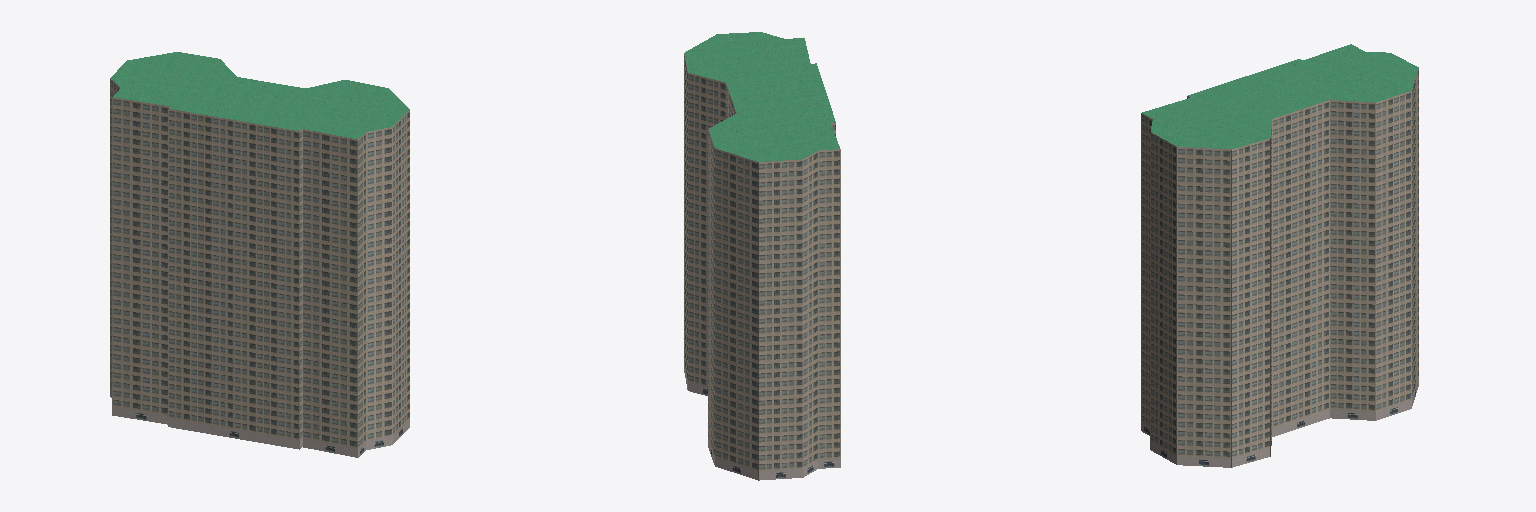
The picture shows the model from 3 angles: view 1: azimuth 30°, elevation 25°; view 2: azimuth 150°, elevation 25°; view 3: azimuth 270°, elevation 25°; orthographic projection.
Parts seen in each view (by area): view 1: BuildingMaster_[number redacted]_0, BuildingMaster_[number redacted]_1; view 2: BuildingMaster_[number redacted]_0, BuildingMaster_[number redacted]_1; view 3: BuildingMaster_[number redacted]_0, BuildingMaster_[number redacted]_1.
Part boxes in pixels (bbox=[...]): BuildingMaster_[number redacted]_0: bbox=[110, 79, 409, 457]; BuildingMaster_[number redacted]_1: bbox=[110, 52, 409, 139]; BuildingMaster_[number redacted]_0: bbox=[684, 54, 840, 480]; BuildingMaster_[number redacted]_1: bbox=[684, 32, 839, 161]; BuildingMaster_[number redacted]_0: bbox=[1141, 69, 1418, 467]; BuildingMaster_[number redacted]_1: bbox=[1142, 44, 1418, 149].
Size of the model in its own units: 87 by 122 by 96.82.
Materials: 2 (2 with a texture image).